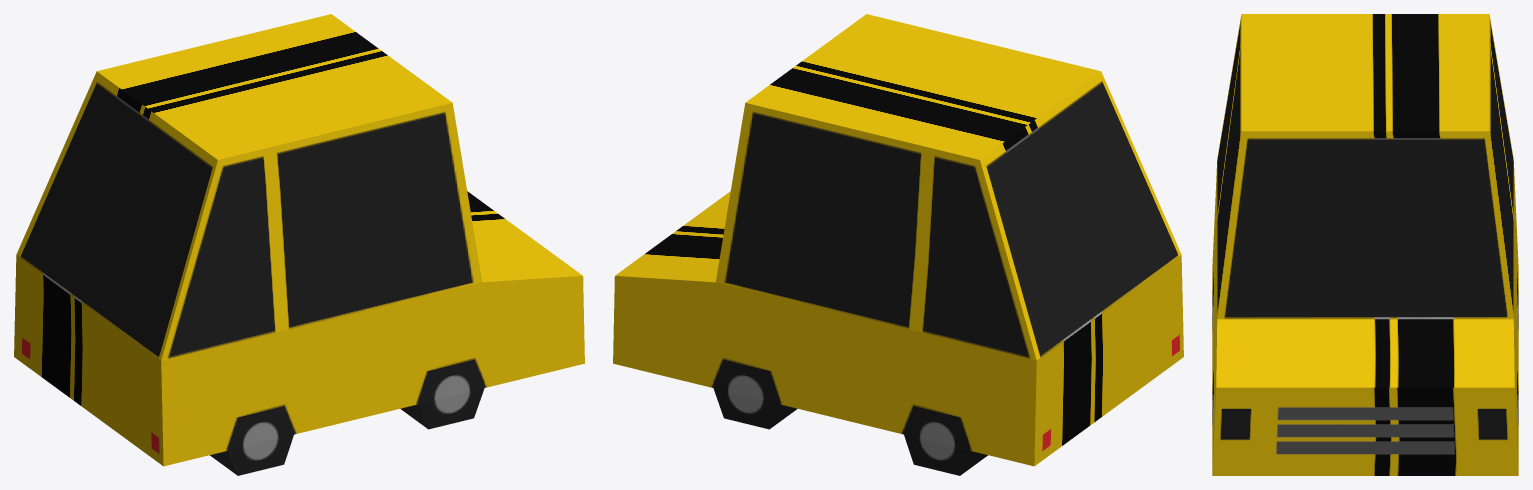
The model's file is car_yellow.dae.
3 views of the same model, side by side, from view 1: azimuth 30°, elevation 25°; view 2: azimuth 150°, elevation 25°; view 3: azimuth 270°, elevation 25° (orthographic). The views are drawn at different scales.
Visible parts, largest first — view 1: car_yellow; view 2: car_yellow; view 3: car_yellow.
Part boxes in pixels (x1,y1,x2,y2): car_yellow: (14, 14, 584, 475); car_yellow: (613, 14, 1183, 475); car_yellow: (1212, 14, 1518, 475).
Size of the model in its own units: 264 by 184 by 162.
Materials: 1 (1 with a texture image).
